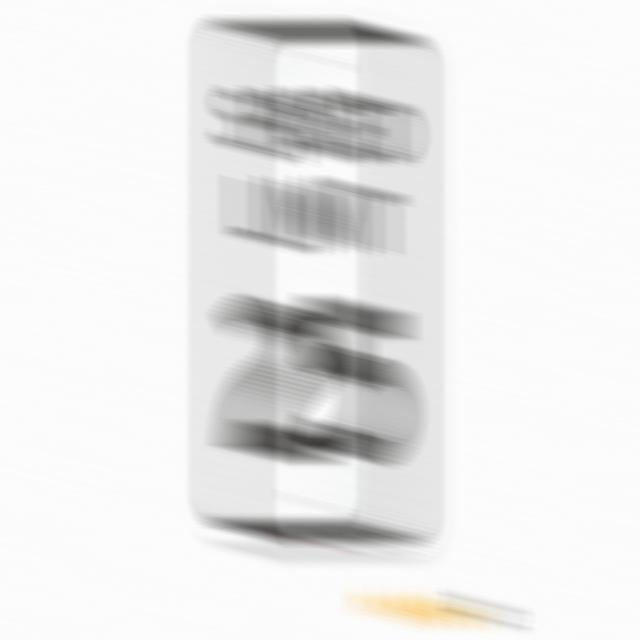speedLimit25: (212, 17, 426, 564)
